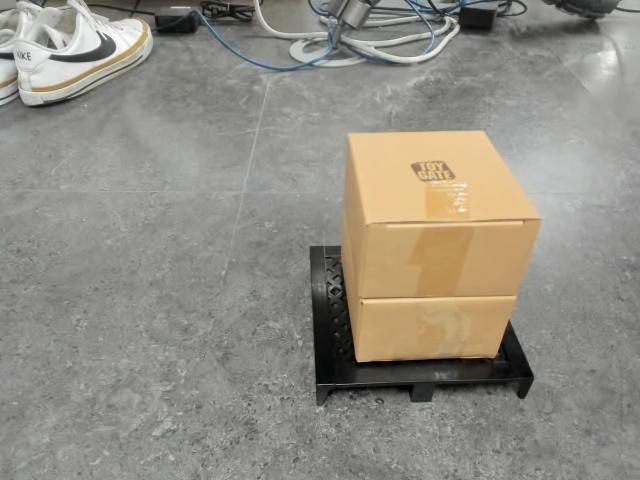box: (307, 128, 541, 405)
